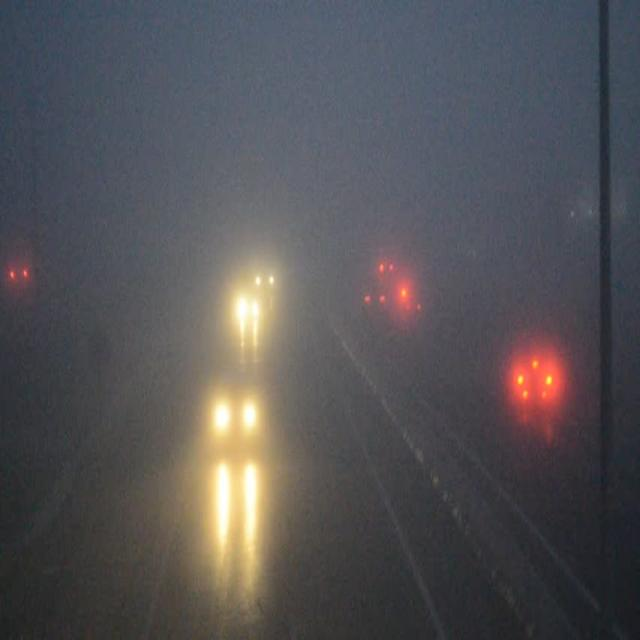bus: (488, 293, 560, 409)
car: (211, 361, 259, 442), (232, 281, 260, 319), (361, 280, 387, 310), (254, 258, 274, 290), (400, 289, 422, 317)
